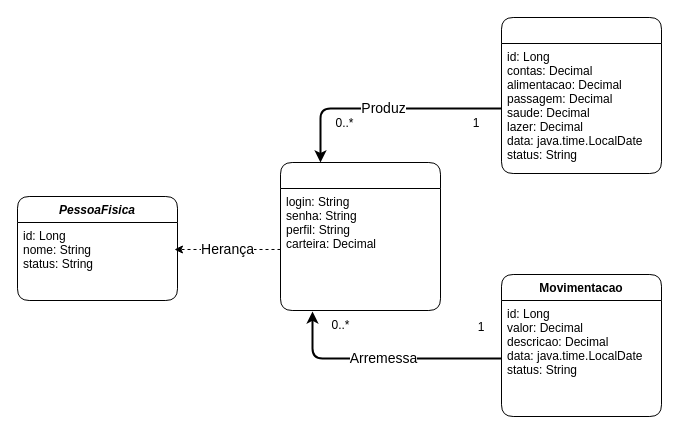
Image size: 679x437. Some labels were removed from this diagram. Each missing label, with the box of its shape:
Gastos: (500, 16, 662, 174)
Usuario: (280, 162, 440, 310)
